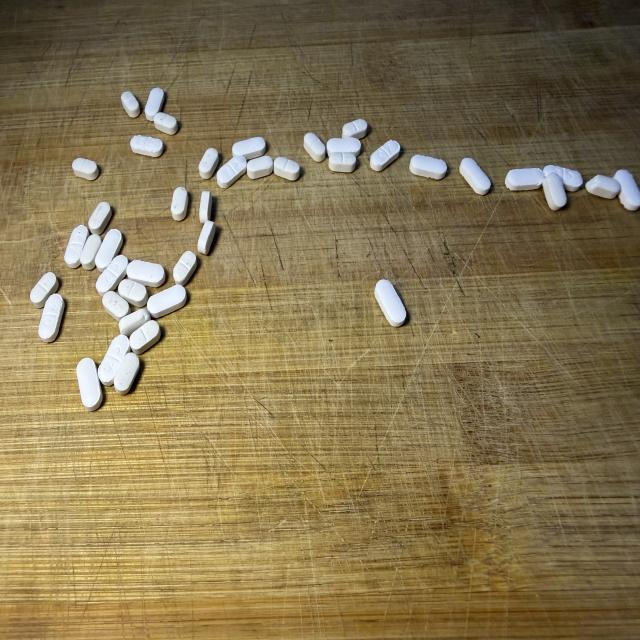pill: (98, 334, 129, 386), (375, 280, 406, 326), (77, 358, 102, 411), (147, 285, 186, 318), (96, 255, 128, 295), (39, 294, 64, 342), (460, 158, 490, 195), (96, 229, 122, 271), (64, 225, 89, 268), (114, 352, 139, 394), (130, 320, 160, 354), (30, 272, 58, 308), (614, 170, 639, 210), (543, 166, 582, 191), (127, 261, 164, 287), (370, 140, 400, 171), (217, 156, 246, 188), (505, 168, 545, 190), (410, 155, 446, 179), (543, 173, 566, 210), (118, 279, 148, 307), (103, 291, 130, 322), (119, 309, 150, 336), (586, 175, 620, 199), (173, 251, 196, 285), (232, 137, 265, 160), (80, 234, 101, 270), (89, 202, 111, 234), (131, 135, 163, 157), (246, 155, 274, 179), (199, 148, 219, 179), (304, 133, 325, 162), (145, 88, 164, 120), (273, 157, 299, 180), (198, 221, 215, 255), (171, 187, 188, 221), (327, 138, 361, 155), (72, 158, 98, 180), (153, 112, 177, 135), (329, 152, 356, 172), (121, 91, 140, 118), (342, 119, 367, 139), (200, 191, 212, 223)
